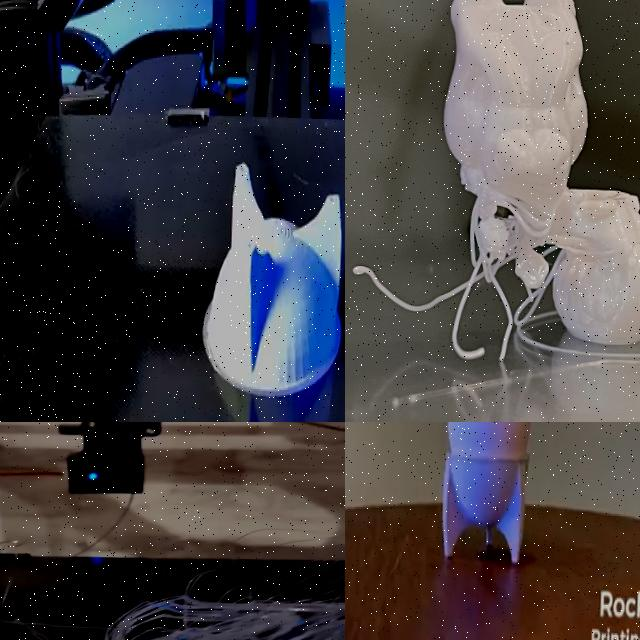spaghetti: (352, 201, 561, 374), (100, 574, 345, 640)
